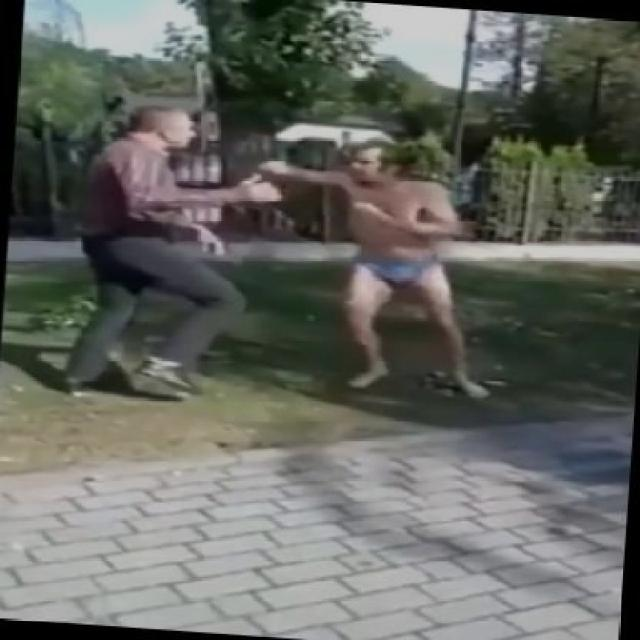fight: (58, 88, 500, 394)
